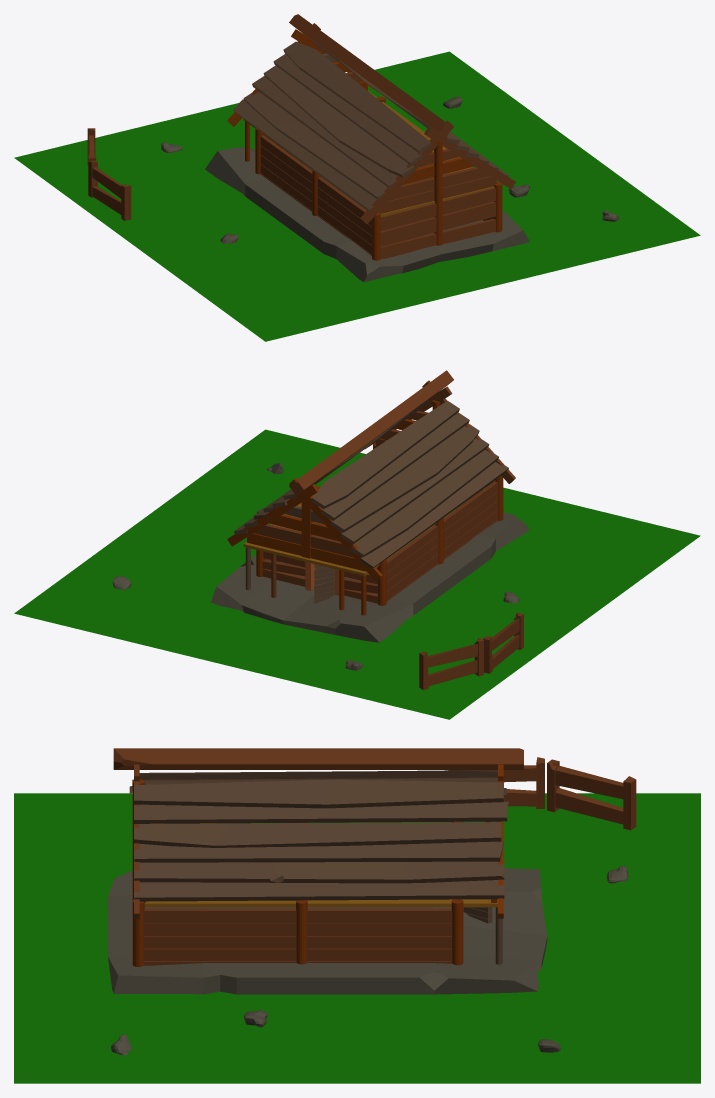
File: Hut.fbx
3 views of the same model, one above another, from view 1: azimuth 30°, elevation 25°; view 2: azimuth 150°, elevation 25°; view 3: azimuth 270°, elevation 25° (orthographic). The views are drawn at different scales.
Visible parts, largest first — view 1: Plane, Cube.011, Cube.010, Cube.002, Cube.009, Cube.022, Cube.003, Cube.023, Cube.021, Cube.027, Cube.020, Cube.019 (+3 smaller); view 2: Plane, Cube.011, Cube.010, Cube.002, Cube.009, Cube.026, Cube.004, Cube.027, Cube.013, Cube.014, Cube.025, Cube.005 (+5 smaller); view 3: Plane, Cube.011, Cube.010, Cube, Cube.009, Cube.026, Cube.005, Cube.027, Cylinder, Cylinder.007, Cylinder.005.
Boxes of the visible parts, bbox=[...] form: Plane: bbox=[14, 51, 700, 341]; Cube.011: bbox=[233, 41, 508, 210]; Cube.010: bbox=[205, 147, 529, 281]; Cube.002: bbox=[260, 135, 371, 255]; Cube.009: bbox=[289, 14, 449, 138]; Cube.022: bbox=[380, 201, 495, 246]; Cube.003: bbox=[360, 120, 515, 224]; Cube.023: bbox=[380, 188, 495, 231]; Cube.021: bbox=[380, 218, 495, 259]; Cube.027: bbox=[88, 160, 131, 220]; Cube.020: bbox=[378, 176, 496, 213]; Cube.019: bbox=[388, 167, 489, 200]; Plane: bbox=[14, 429, 700, 719]; Cube.011: bbox=[234, 399, 508, 569]; Cube.010: bbox=[210, 509, 529, 642]; Cube.002: bbox=[386, 481, 497, 601]; Cube.009: bbox=[289, 370, 453, 495]; Cube.026: bbox=[419, 638, 483, 690]; Cube.004: bbox=[227, 478, 382, 581]; Cube.027: bbox=[483, 612, 523, 673]; Cube.013: bbox=[247, 533, 365, 571]; Cube.014: bbox=[253, 524, 354, 557]; Cube.025: bbox=[262, 551, 305, 586]; Cube.005: bbox=[243, 448, 495, 576]; Plane: bbox=[14, 793, 700, 1083]; Cube.011: bbox=[129, 770, 508, 901]; Cube.010: bbox=[107, 868, 547, 994]; Cube: bbox=[143, 908, 452, 965]; Cube.009: bbox=[113, 748, 523, 769]; Cube.026: bbox=[547, 759, 636, 830]; Cube.005: bbox=[144, 823, 497, 907]; Cube.027: bbox=[448, 757, 544, 809]; Cylinder: bbox=[451, 899, 463, 965]; Cylinder.007: bbox=[296, 900, 307, 964]; Cylinder.005: bbox=[132, 900, 144, 966].
Size of the model in its own units: 6449 by 2082 by 6449.
